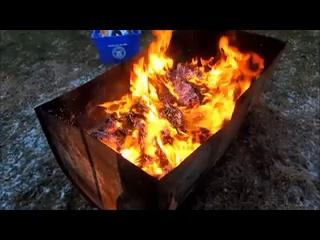Fire: (137, 62, 226, 125)
